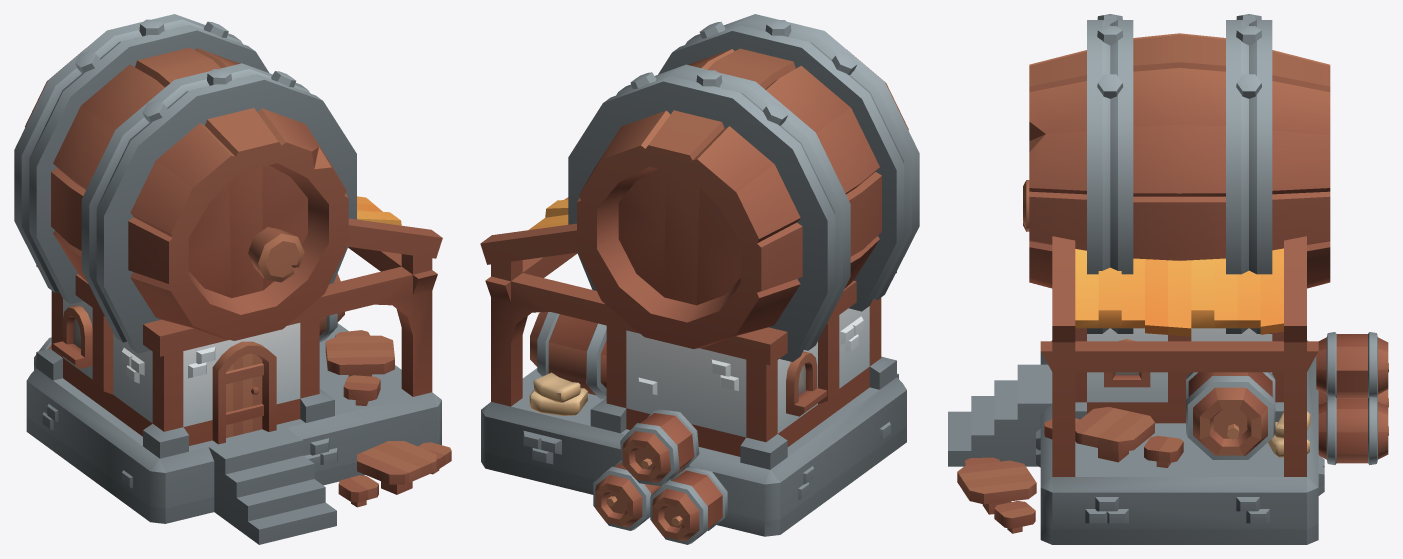
File: building_tavern_yellow.gltf
3 renders of one model, left to right at view 1: azimuth 30°, elevation 25°; view 2: azimuth 150°, elevation 25°; view 3: azimuth 270°, elevation 25°, orthographic. The views are drawn at different scales.
Visible parts, largest first — view 1: building_tavern_yellow; view 2: building_tavern_yellow; view 3: building_tavern_yellow.
Part boxes in pixels (<box>): building_tavern_yellow: <box>14,14,451,544</box>; building_tavern_yellow: <box>480,14,919,544</box>; building_tavern_yellow: <box>948,14,1388,544</box>.
Bounding box in the file's own units: 1.17 × 1.4 × 1.33.
1 material, 1 textured.
